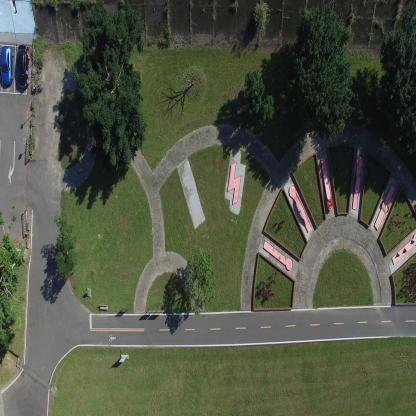car: (0, 45, 14, 86), (16, 44, 29, 87)
